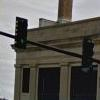Chimney: (45, 4, 77, 24)
